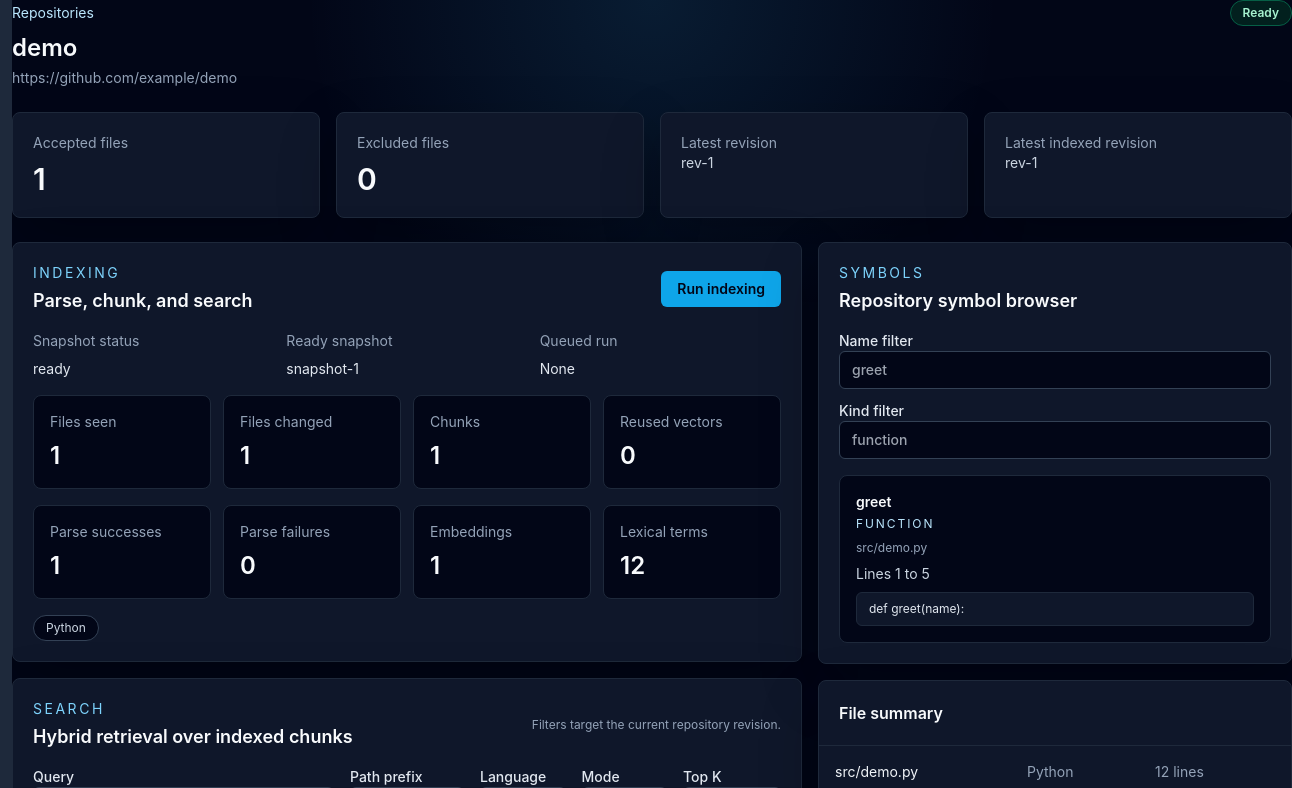
Test: RepositoryDetailPage › shows index status, symbols, and search results
Expected: the heading "Parse, chunk, and search" is shown, [33,287,252,315]
Expected: the text "greet" is shown, [856,493,892,510]
Click the button "Run indexing" at (721, 289), box [661,271,781,307]
(page scrolled)
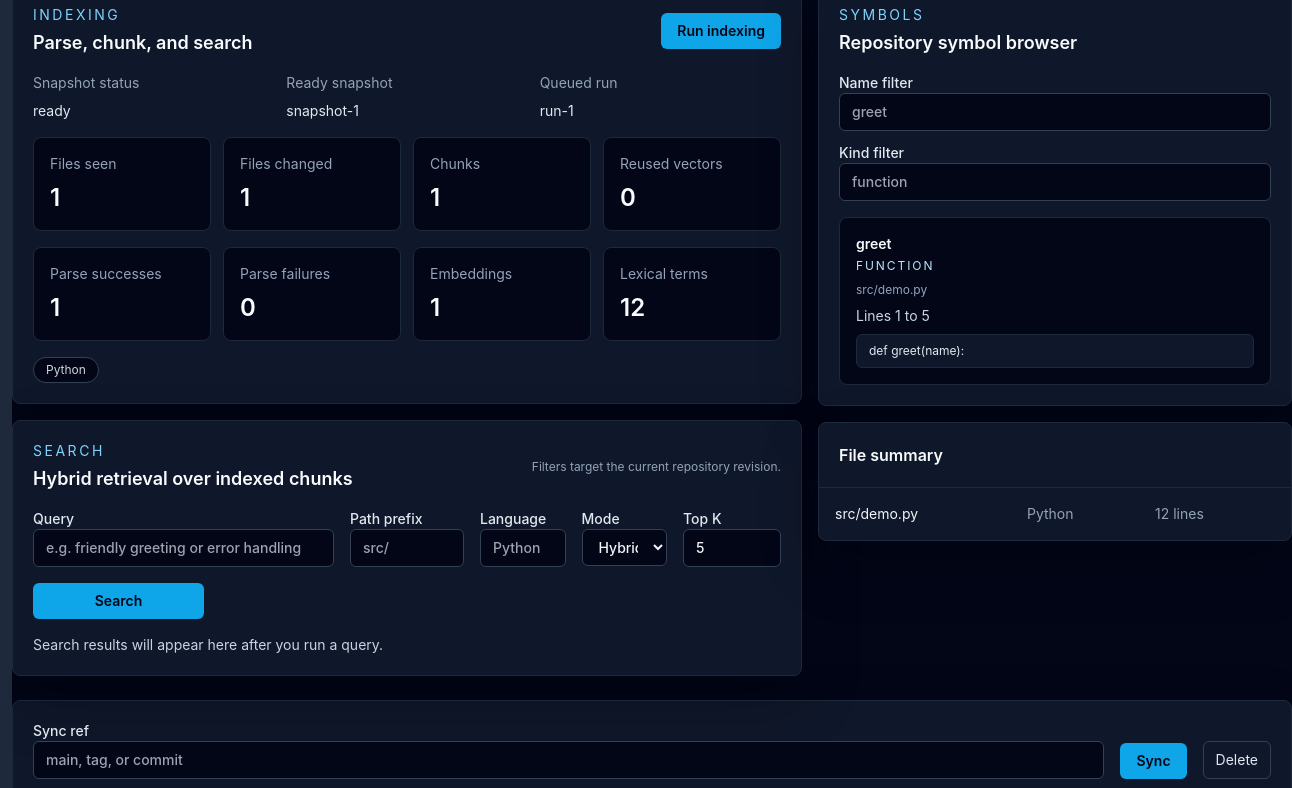
Type "friendly greeting" into the field labelled "Query" at (184, 548), box [33,529,334,567]
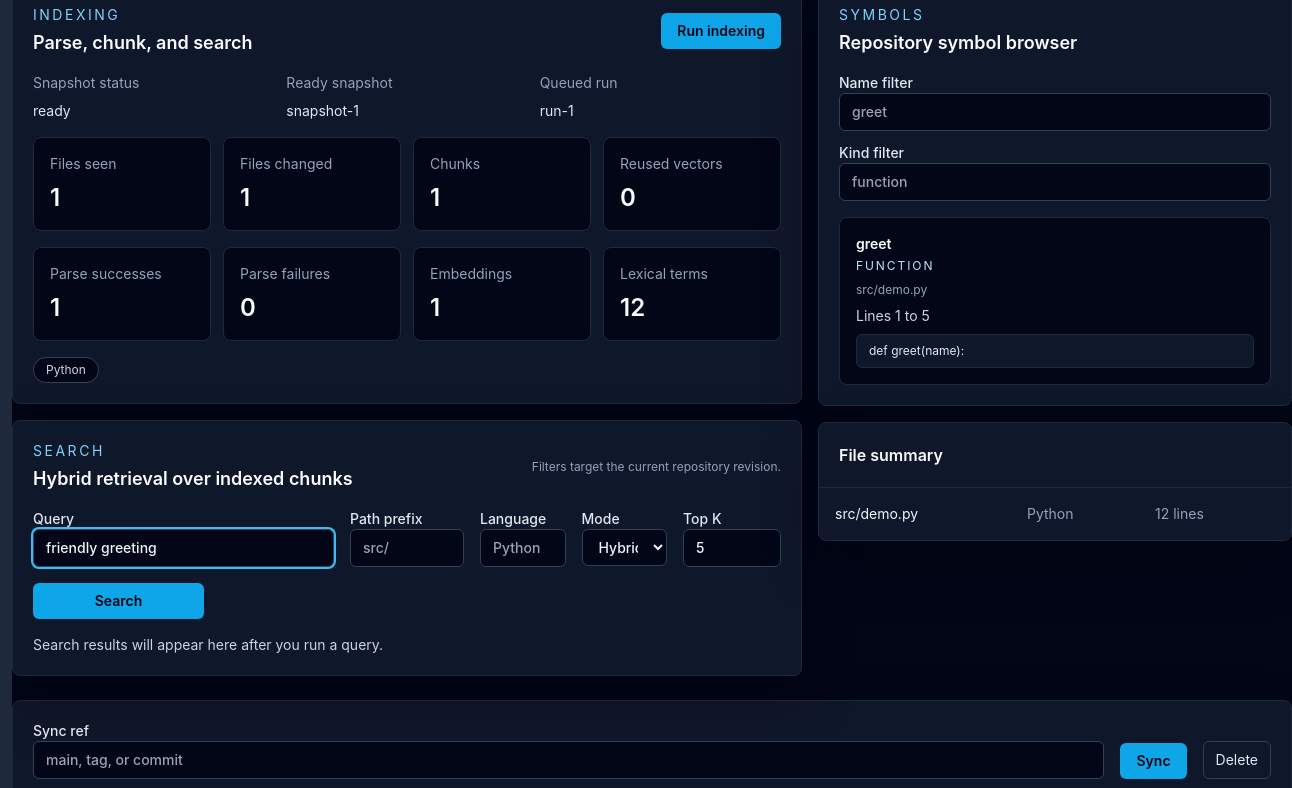
Click the button "Search" at (118, 601), box [33,583,204,619]
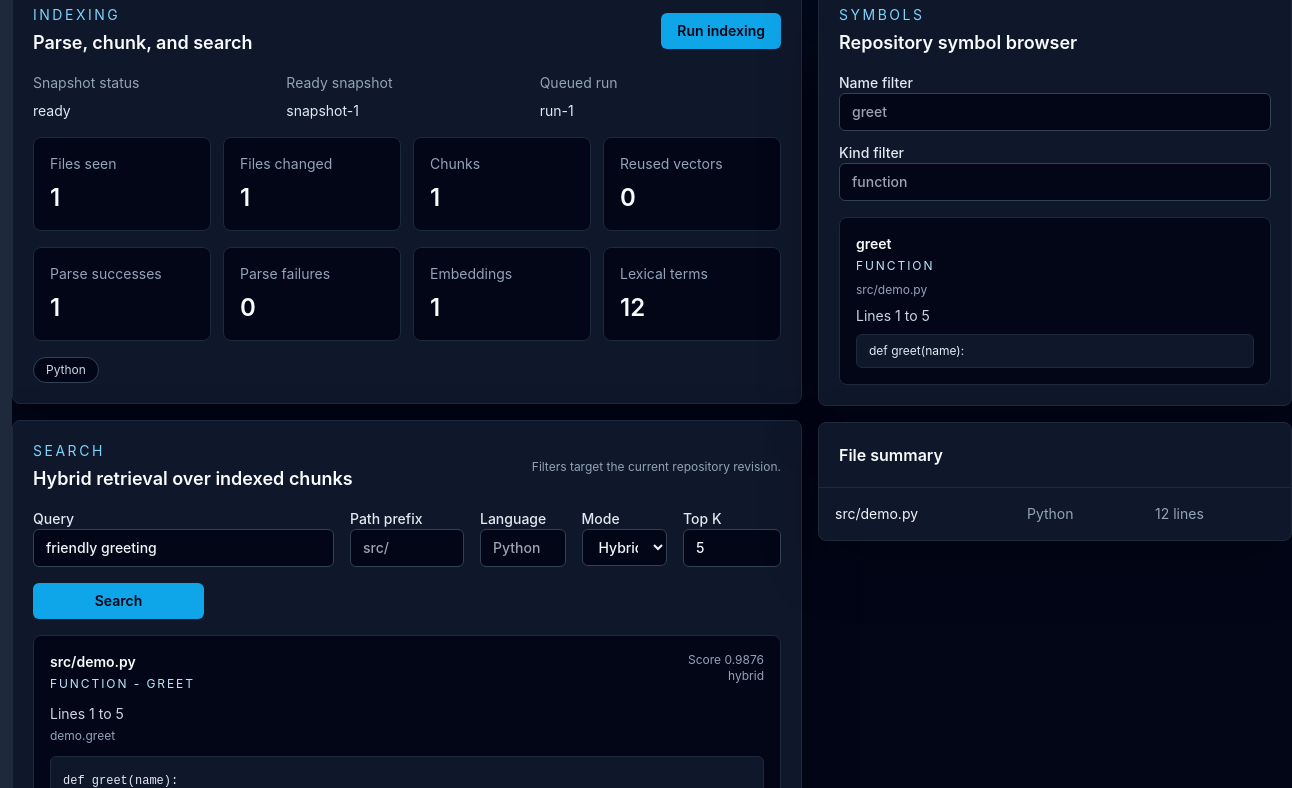
Now the text "Score 0.9876" is shown, box [688,652,764,668]
Now the text "demo.greet" is shown, box [50,728,115,743]
